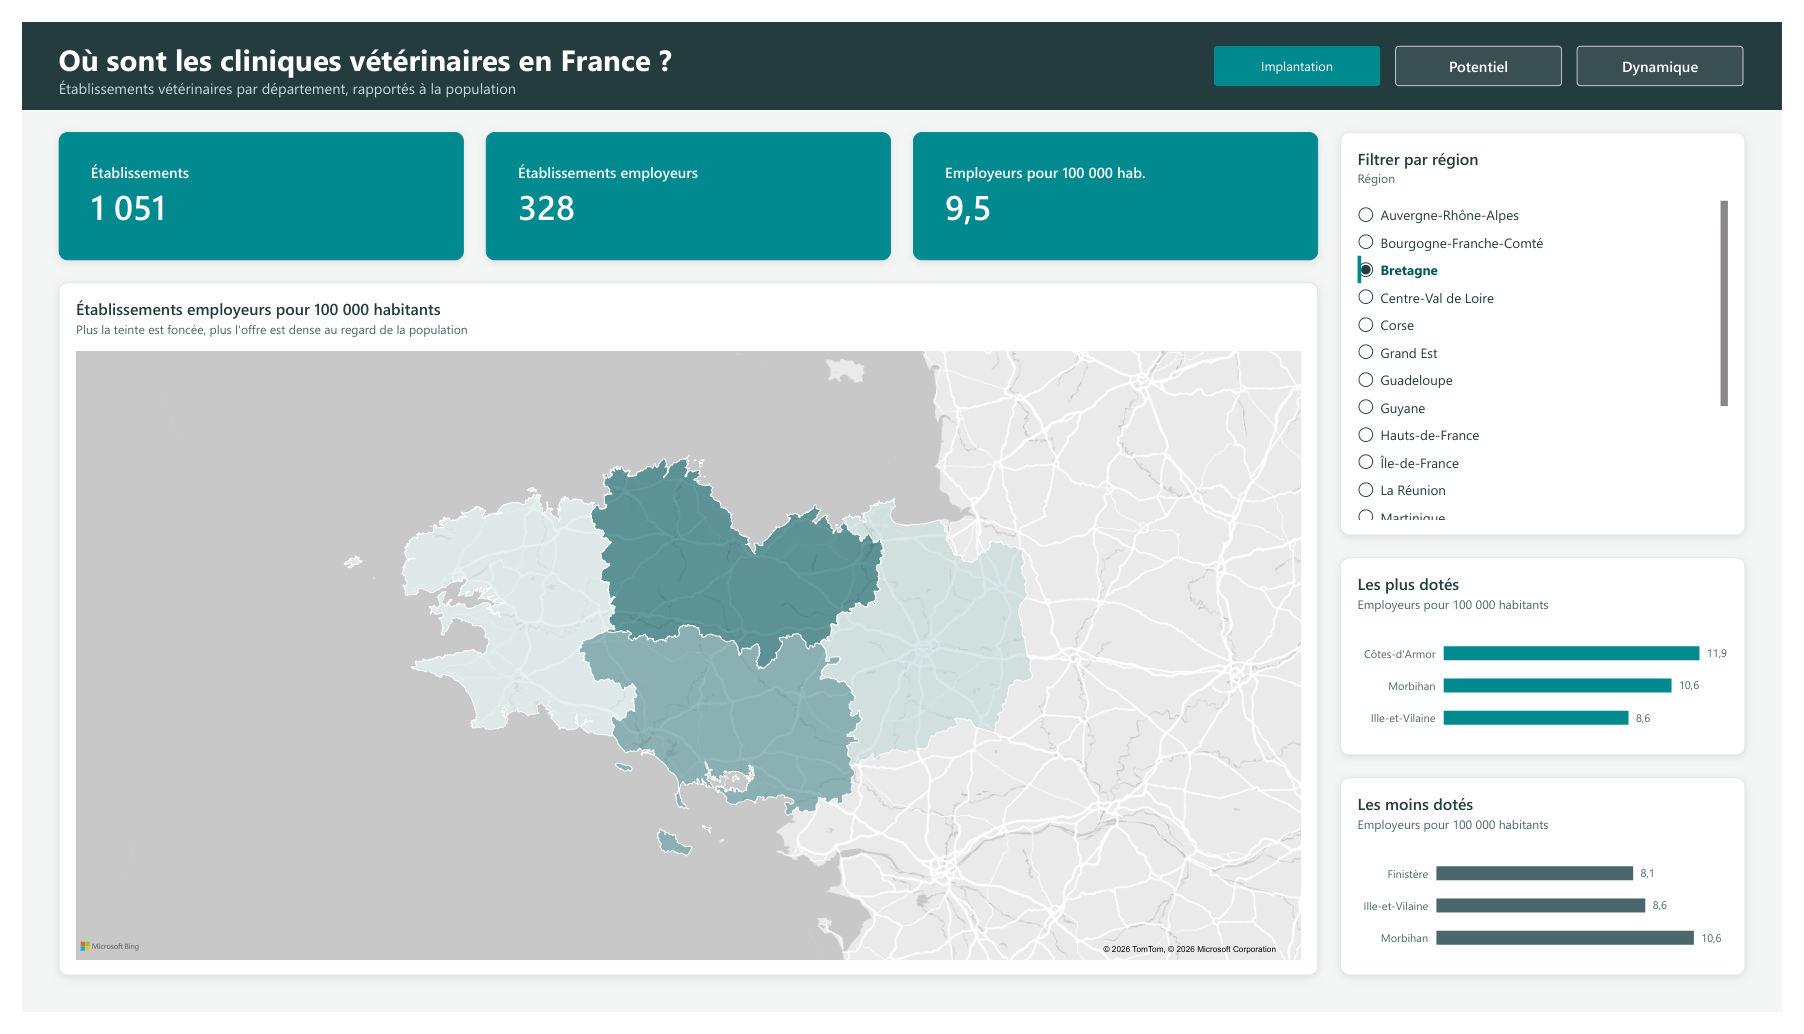

The dashboard page shown, as its layout file describes it:
{"tool":"powerbi","page":{"name":"Implantation","canvas":[1920,1080],"ordinal":0},"visuals":[{"type":"textbox","box":[0,0,1920,96],"z":0},{"type":"cardVisual","fields":{"Data":["veto_departements_FR.Etablissements"]},"box":[40,120,442,140],"z":10},{"type":"cardVisual","fields":{"Data":["veto_departements_FR.Employeurs"]},"box":[506,120,442,140],"z":11},{"type":"cardVisual","fields":{"Data":["veto_departements_FR.Employeurs pour 100k hab"]},"box":[972,120,442,140],"z":12},{"type":"filledMap","title":"Établissements employeurs pour 100 000 habitants","fields":{"Category":["veto_departements_FR.lieu"]},"box":[40,284,1374,756],"z":13},{"type":"listSlicer","title":"Filtrer par région","fields":{"Values":["veto_departements_FR.region"]},"box":[1438,120,442,440],"z":14},{"type":"clusteredBarChart","title":"Les plus dotés","fields":{"Category":["veto_departements_FR.departement"],"Y":["Sum(veto_departements_FR.employeurs_pour_100k_hab)"]},"box":[1438,584,442,216],"z":60},{"type":"clusteredBarChart","title":"Les moins dotés","fields":{"Category":["veto_departements_FR.departement"],"Y":["Sum(veto_departements_FR.employeurs_pour_100k_hab)"]},"box":[1438,824,442,216],"z":61},{"type":"pageNavigator","box":[1300,26,580,44],"z":100}]}

Visuals, with their boxes in screenshot pixels (x1, y1, x2, y2), scaled from the page's 1920x1080 canvas onto the 1804x1034 screenshot:
textbox: 0, 0, 1803, 92
cardVisual - veto_departements_FR.Etablissements: 38, 115, 453, 249
cardVisual - veto_departements_FR.Employeurs: 475, 115, 891, 249
cardVisual - veto_departements_FR.Employeurs pour 100k hab: 913, 115, 1329, 249
"Établissements employeurs pour 100 000 habitants" filledMap: 38, 272, 1329, 996
"Filtrer par région" listSlicer: 1351, 115, 1766, 536
"Les plus dotés" clusteredBarChart: 1351, 559, 1766, 766
"Les moins dotés" clusteredBarChart: 1351, 789, 1766, 996
pageNavigator: 1221, 25, 1766, 67
